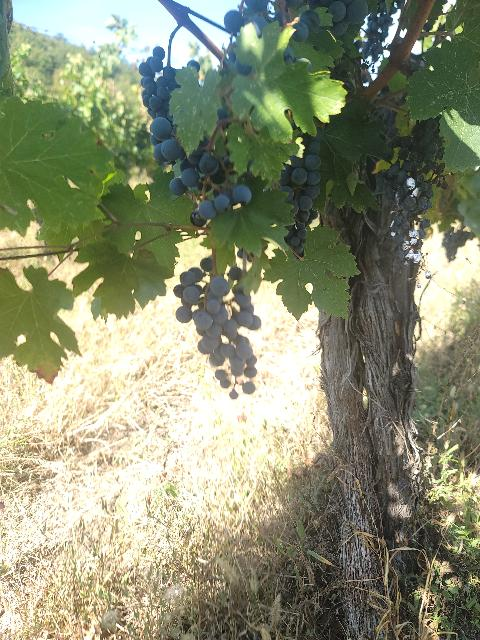grapes: (174, 256, 261, 399), (139, 46, 185, 165)
